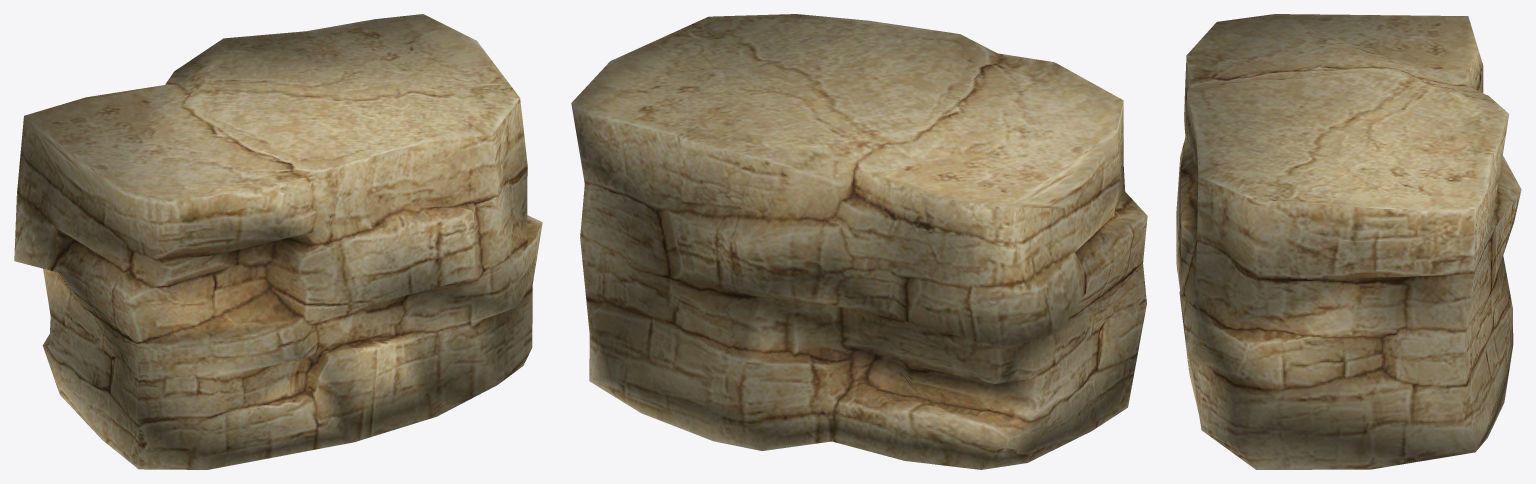
File: S_Rock_Yellow054.FBX
3 renders of one model, left to right at view 1: azimuth 30°, elevation 25°; view 2: azimuth 150°, elevation 25°; view 3: azimuth 270°, elevation 25°, orthographic. The views are drawn at different scales.
Visible parts, largest first — view 1: S_Rock_Yellow054; view 2: S_Rock_Yellow054; view 3: S_Rock_Yellow054.
Part boxes in pixels (<box>): S_Rock_Yellow054: <box>14,14,542,469</box>; S_Rock_Yellow054: <box>571,14,1147,469</box>; S_Rock_Yellow054: <box>1176,14,1521,469</box>.
Size of the model in its own units: 843 by 575 by 514.
